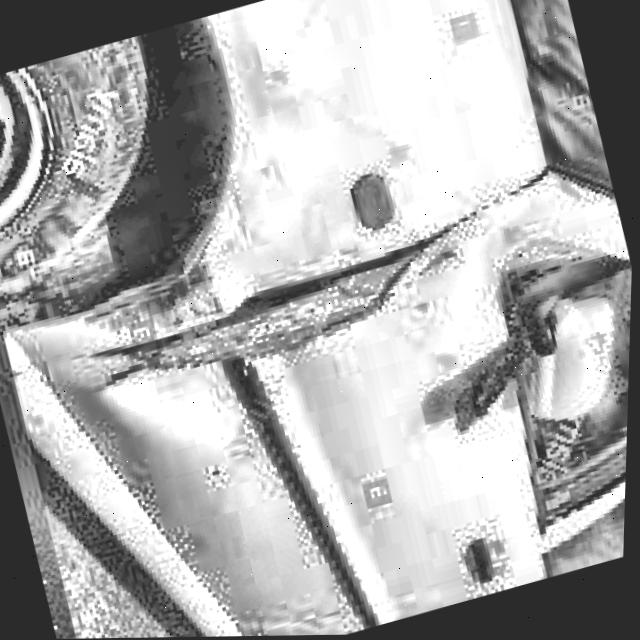door_dent: (79, 204, 458, 393)
door_scratch: (270, 261, 431, 365)
